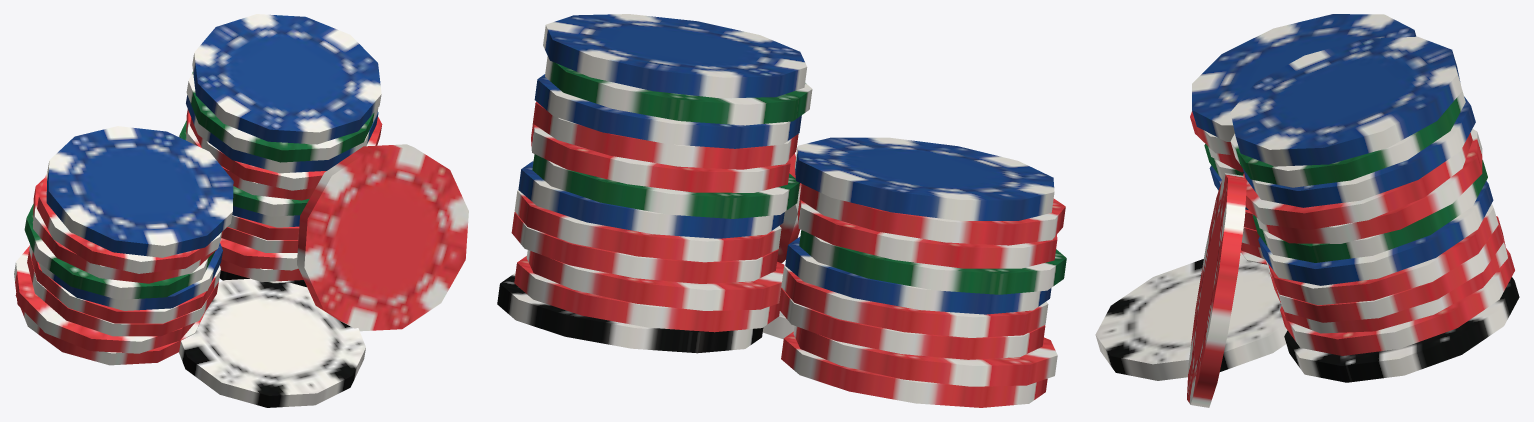
The model's file is poker_chips.FBX.
3 renders of one model, left to right at view 1: azimuth 30°, elevation 25°; view 2: azimuth 150°, elevation 25°; view 3: azimuth 270°, elevation 25°, orthographic. The views are drawn at different scales.
Parts seen in each view (by area): view 1: poker_chips; view 2: poker_chips; view 3: poker_chips.
Boxes of the visible parts, <box> form: poker_chips: <box>14,14,468,407</box>; poker_chips: <box>497,14,1066,407</box>; poker_chips: <box>1095,14,1519,407</box>.
Bounding box in the file's own units: 38.64 × 25.23 × 29.51.
